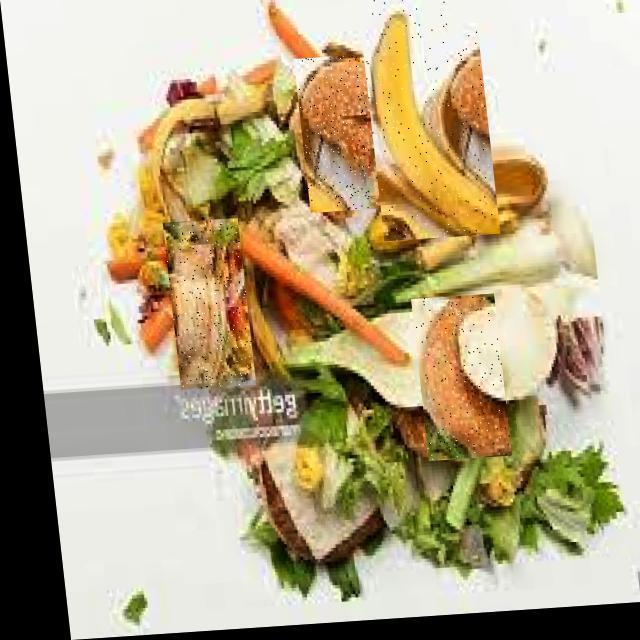cardboard: (1, 1, 637, 636)
cups: (161, 216, 256, 391)
